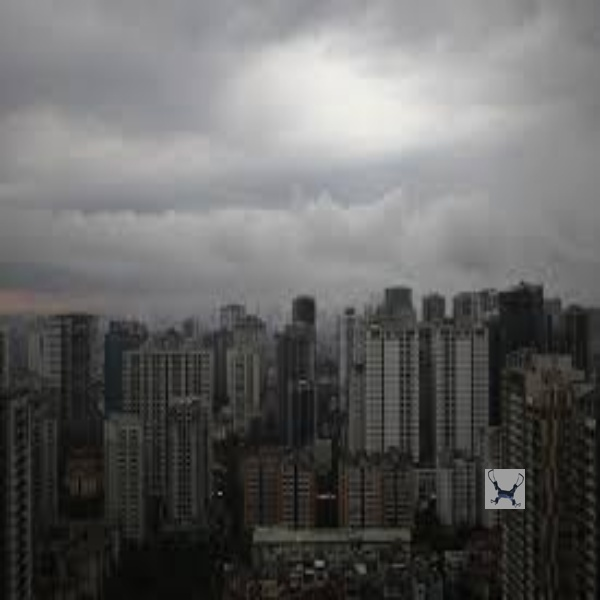drone: (484, 467, 526, 509)
